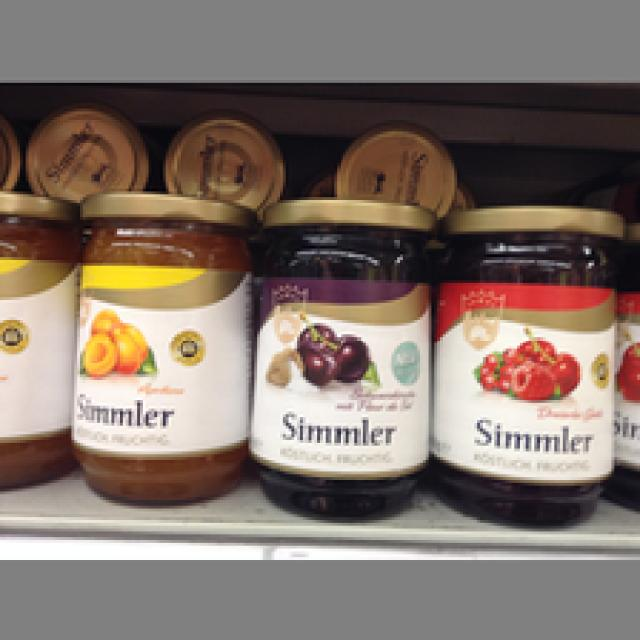groceries: (426, 194, 620, 529), (63, 188, 254, 506), (249, 197, 434, 520)
